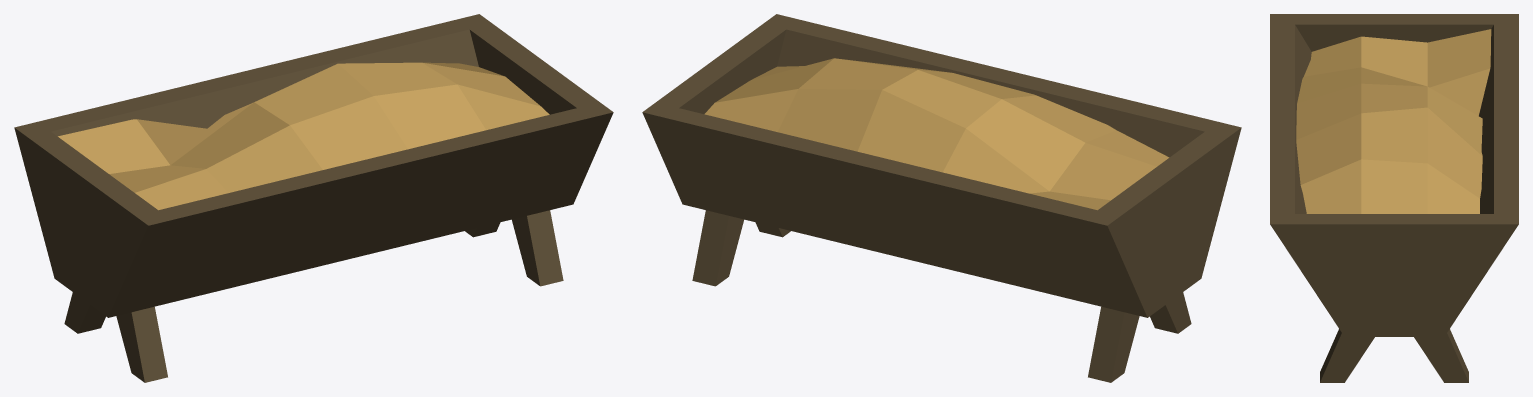
File: enchantedforest_trough.fbx
3 views of the same model, side by side, from view 1: azimuth 30°, elevation 25°; view 2: azimuth 150°, elevation 25°; view 3: azimuth 270°, elevation 25° (orthographic). The views are drawn at different scales.
Parts seen in each view (by area): view 1: Cube.032, Plane.009; view 2: Cube.032, Plane.009; view 3: Cube.032, Plane.009.
Part boxes in pixels (x1,y1,x2,y2): Cube.032: (14,14,613,382); Plane.009: (58,62,549,210); Cube.032: (642,14,1241,382); Plane.009: (704,58,1169,210); Cube.032: (1270,14,1518,382); Plane.009: (1296,29,1491,213).
Size of the model in its own units: 2.1 by 0.9298 by 1.05.
